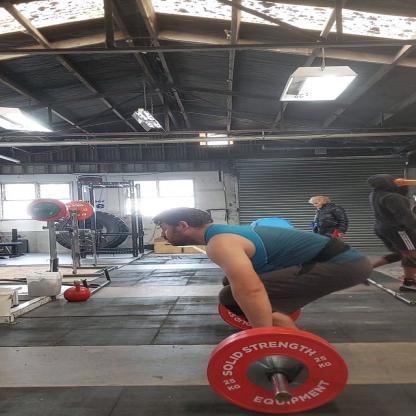barbell: (209, 326, 351, 416)
